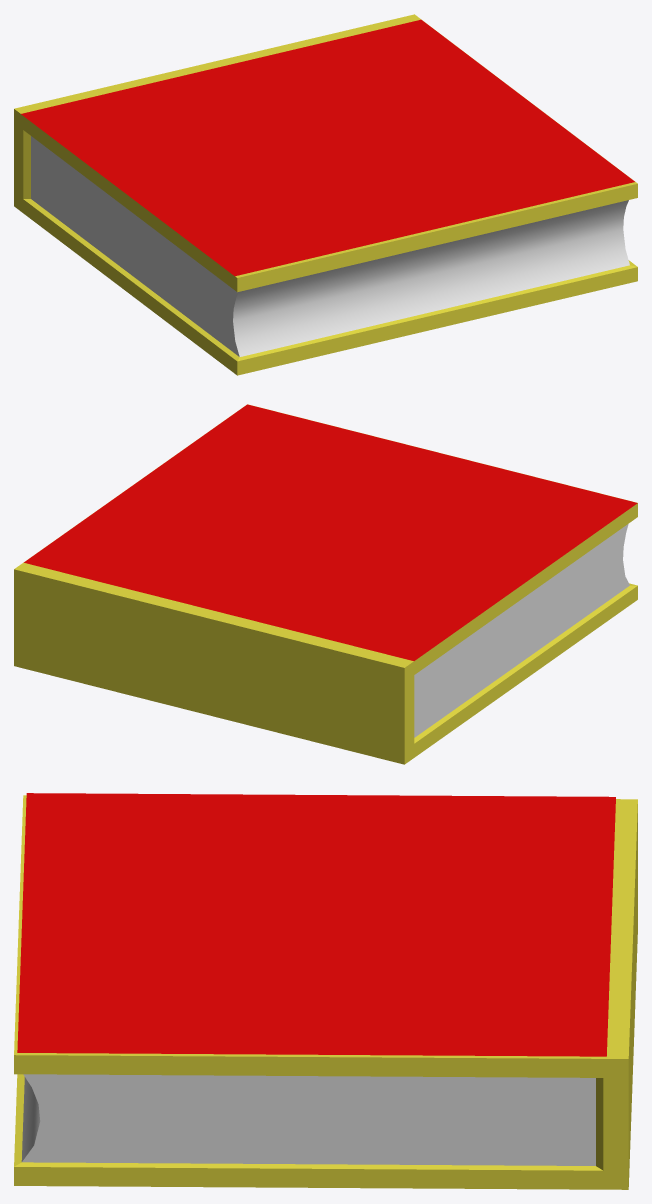
The model's file is livre.fbx.
3 views of the same model, one above another, from view 1: azimuth 30°, elevation 25°; view 2: azimuth 150°, elevation 25°; view 3: azimuth 270°, elevation 25° (orthographic). The views are drawn at different scales.
Visible parts, largest first — view 1: Rendu_laura:Livre6, Livre6; view 2: Rendu_laura:Livre6, Livre6; view 3: Rendu_laura:Livre6, Livre6.
Part boxes in pixels (x1,y1,x2,y2): Rendu_laura:Livre6: (21, 19, 634, 276); Livre6: (14, 14, 637, 375); Rendu_laura:Livre6: (24, 404, 637, 660); Livre6: (14, 404, 637, 764); Rendu_laura:Livre6: (17, 793, 615, 1056); Livre6: (14, 795, 637, 1189).
Size of the model in its own units: 4.91 by 1.15 by 4.9.
